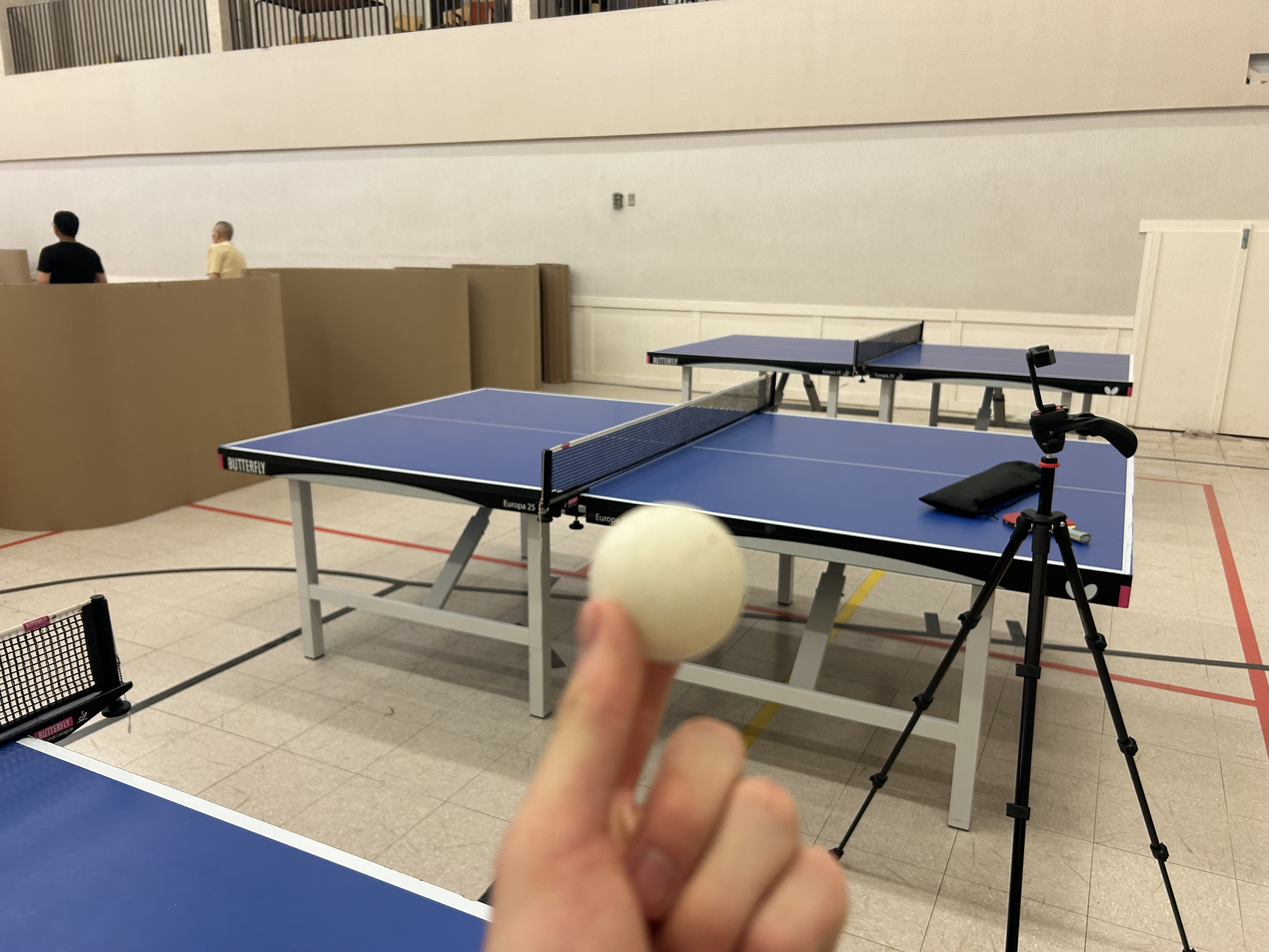Ball: (569, 493, 779, 659)
